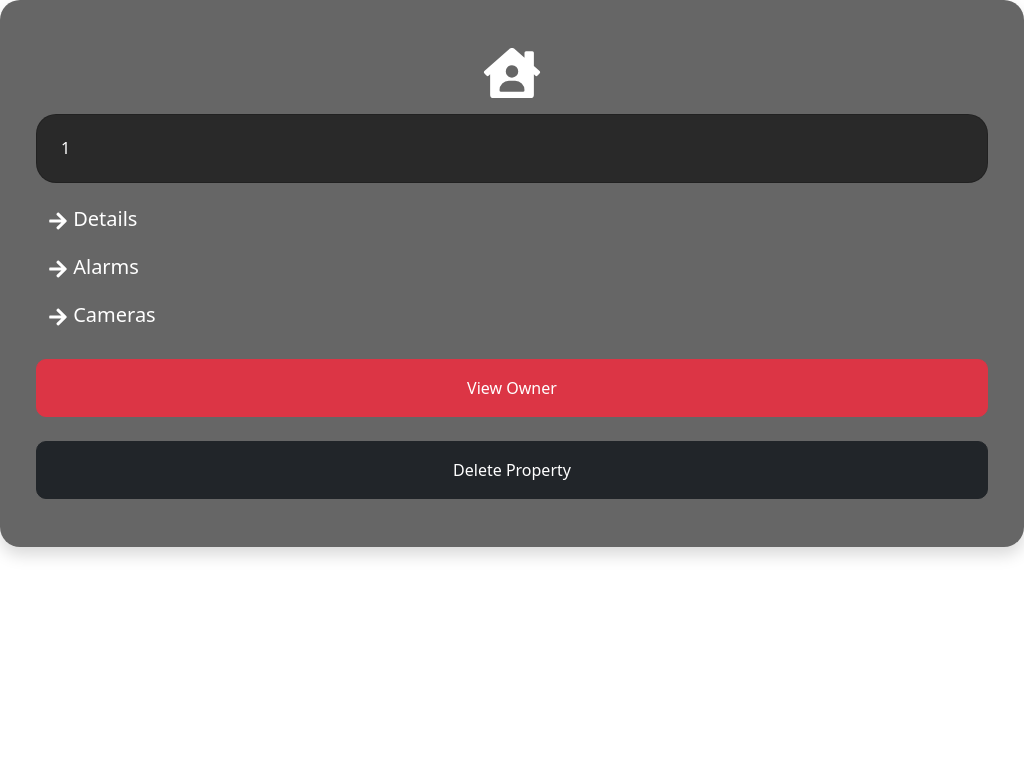
<PropertyCard /> › it should display property name
Note: View the content
Click the heading "Details" at point(93, 219), box [48,205,137,232]
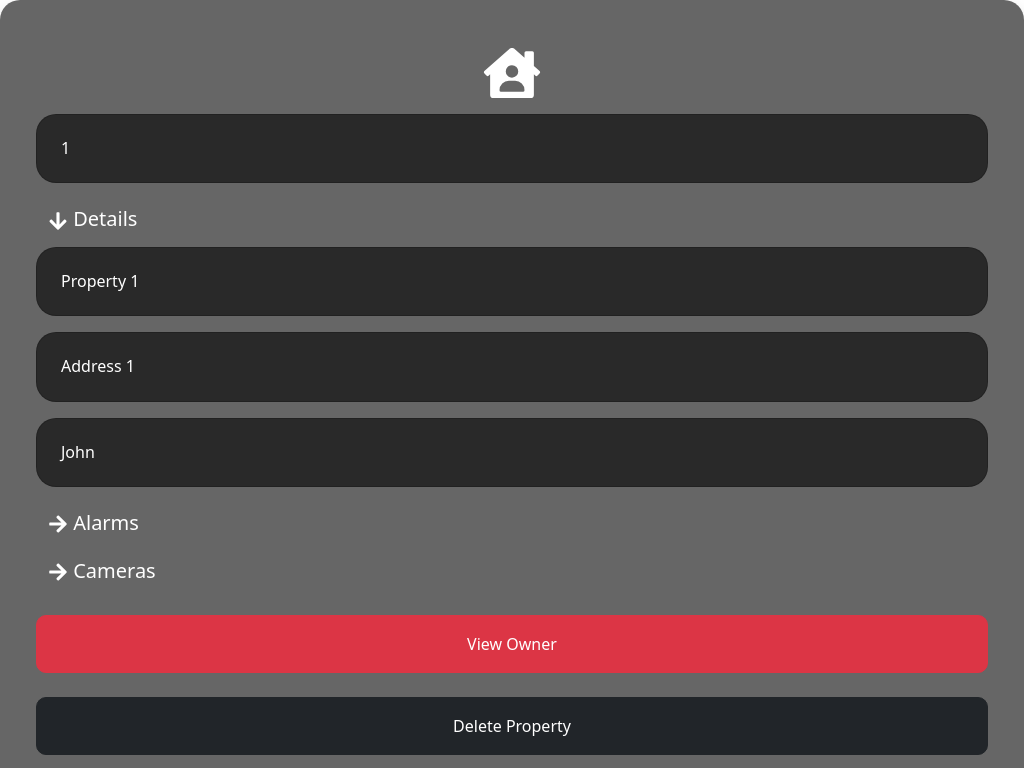
expect the heading "Property 1" is shown: met, box [61,270,139,292]
